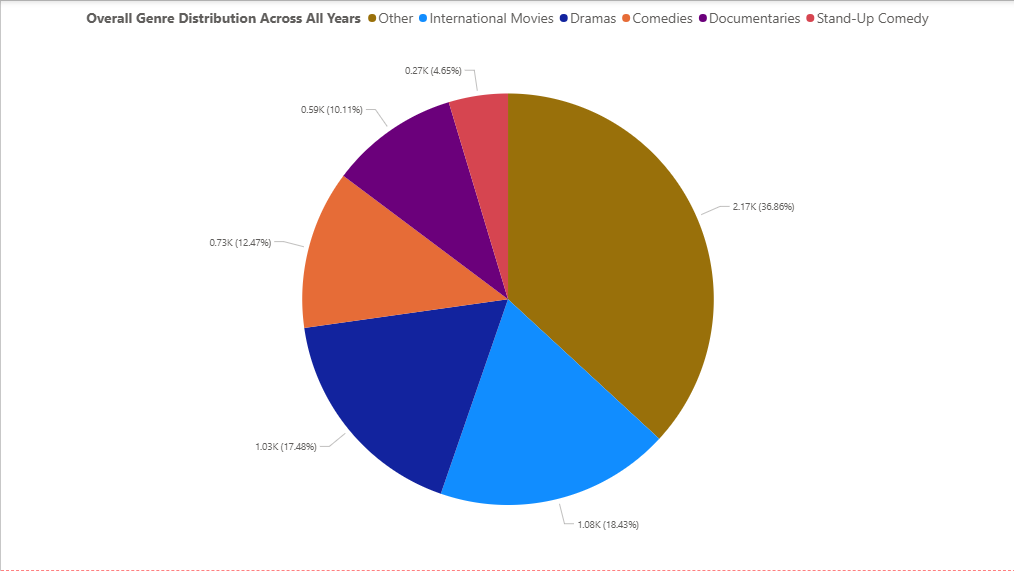

The page's visual inventory and layout, read from the dashboard file:
{"tool":"powerbi","page":{"name":"Page 1","canvas":[1280,720],"ordinal":0},"visuals":[{"type":"pieChart","fields":{"Y":["Sum(yearly_genre_prevalence.approx_title_count)"],"Category":["yearly_genre_prevalence.genre (groups)"]},"box":[0,0,1279.4,720],"z":0}]}

Visuals, with their boxes in screenshot pixels (x1, y1, x2, y2), scaled from the page's 1280x720 canvas onto the 1014x571 screenshot:
pieChart - Sum(yearly_genre_prevalence.approx_title_count) x yearly_genre_prevalence.genre (groups): <bbox>0, 0, 1013, 570</bbox>
